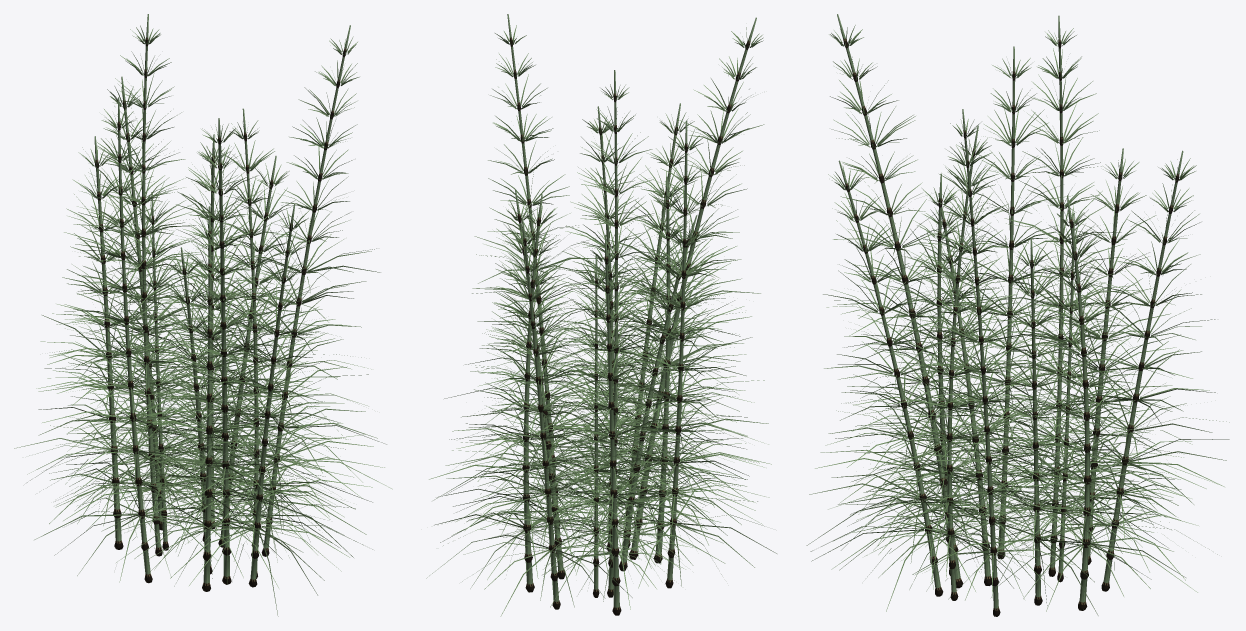
Rendered from horsetail_v03.fbx.
3 views of the same model, side by side, from view 1: azimuth 30°, elevation 25°; view 2: azimuth 150°, elevation 25°; view 3: azimuth 270°, elevation 25° (orthographic). The views are drawn at different scales.
Parts seen in each view (by area): view 1: horsetail_v03; view 2: horsetail_v03; view 3: horsetail_v03.
Part boxes in pixels (box(x1,y1,x2,y2)): horsetail_v03: box(14, 14, 392, 616); horsetail_v03: box(426, 14, 776, 616); horsetail_v03: box(806, 14, 1229, 616).
Size of the model in its own units: 46.58 by 53.36 by 77.03.
2 materials, 2 textured.
